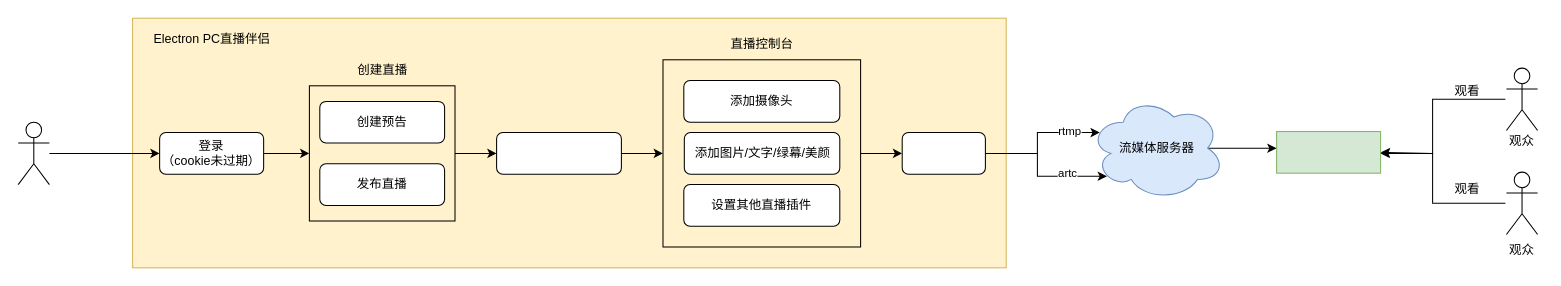
Some shapes in this 1561 by 286 pixel diagram are drawn without their labels. Here are the shapes that lost their labels. From the top down, the box of each, then its label:
(17, 121, 49, 185): 主播
(496, 132, 621, 174): 选择直播场次
(901, 132, 985, 174): 推流
(1276, 131, 1381, 173): 直播间
